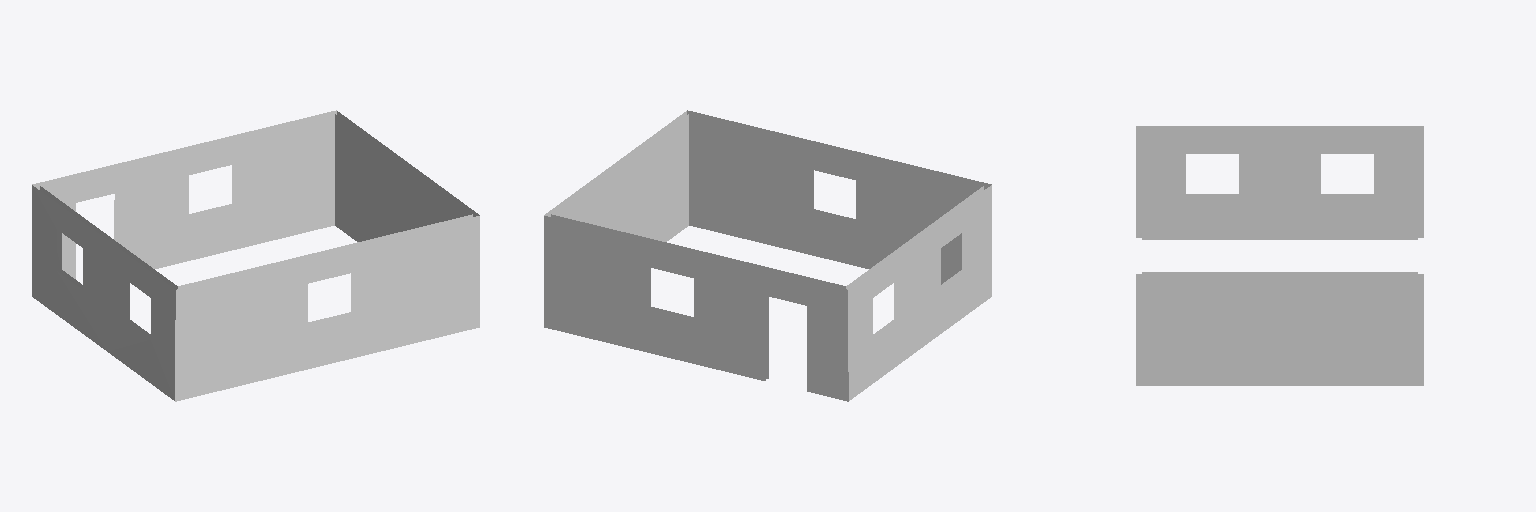
File: Wall4.obj
3 views of the same model, side by side, from view 1: azimuth 30°, elevation 25°; view 2: azimuth 150°, elevation 25°; view 3: azimuth 270°, elevation 25° (orthographic).
Parts seen in each view (by area): view 1: Wall4; view 2: Wall4; view 3: Wall4.
Boxes of the visible parts, box(x1,y1,x2,y2) form: Wall4: box(32, 110, 479, 401); Wall4: box(544, 110, 991, 401); Wall4: box(1136, 126, 1423, 385).
Size of the model in its own units: 9.12 by 3.2 by 7.45.